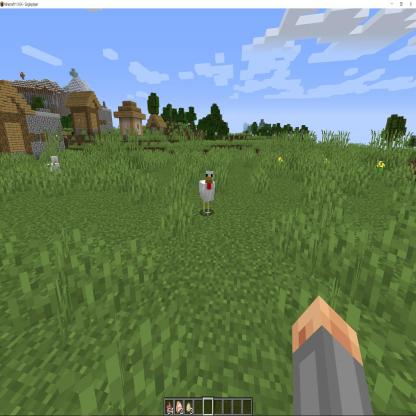minecraft-pigs: (196, 170, 217, 219), (45, 152, 61, 188)
